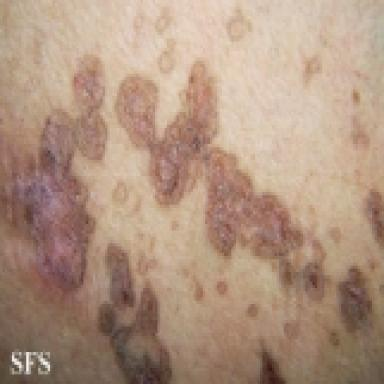Porokeratosis: (117, 63, 337, 301), (0, 56, 111, 289), (97, 245, 176, 383), (338, 265, 378, 336), (257, 340, 286, 383), (366, 191, 384, 246), (227, 8, 252, 41), (351, 115, 370, 152), (158, 39, 175, 73), (303, 54, 321, 86), (137, 253, 157, 275), (155, 10, 171, 33), (113, 181, 128, 204), (133, 9, 146, 34), (283, 320, 300, 339), (329, 226, 342, 244), (194, 280, 203, 301), (246, 303, 259, 317), (329, 330, 339, 346), (216, 281, 227, 295), (352, 90, 361, 103), (171, 219, 179, 230)
